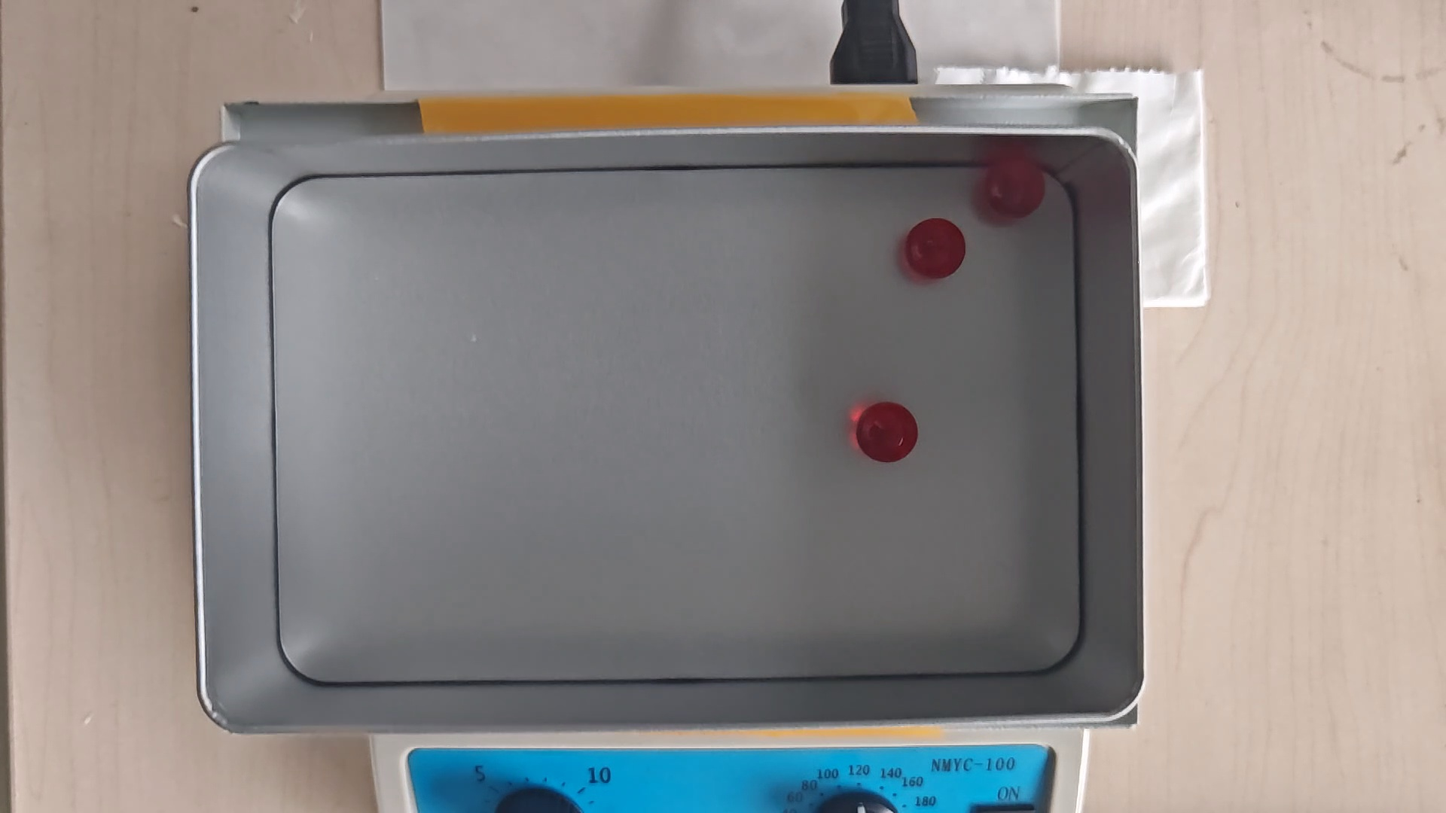ball: (981, 157, 1048, 221), (858, 400, 917, 464), (907, 218, 966, 281)
container: (267, 170, 1080, 679)
